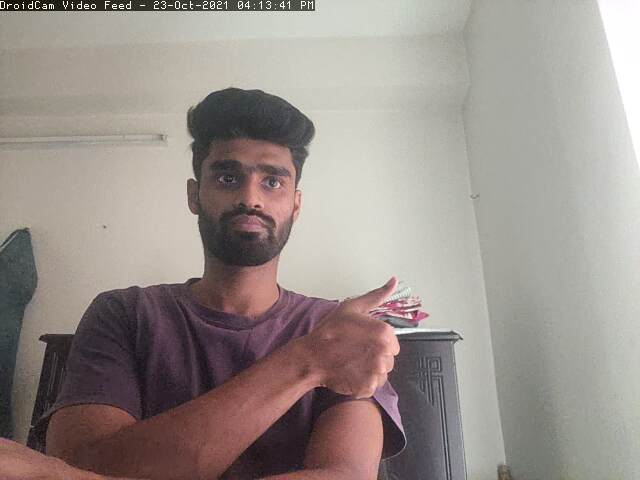ThumbsUp: (318, 275, 413, 401)
